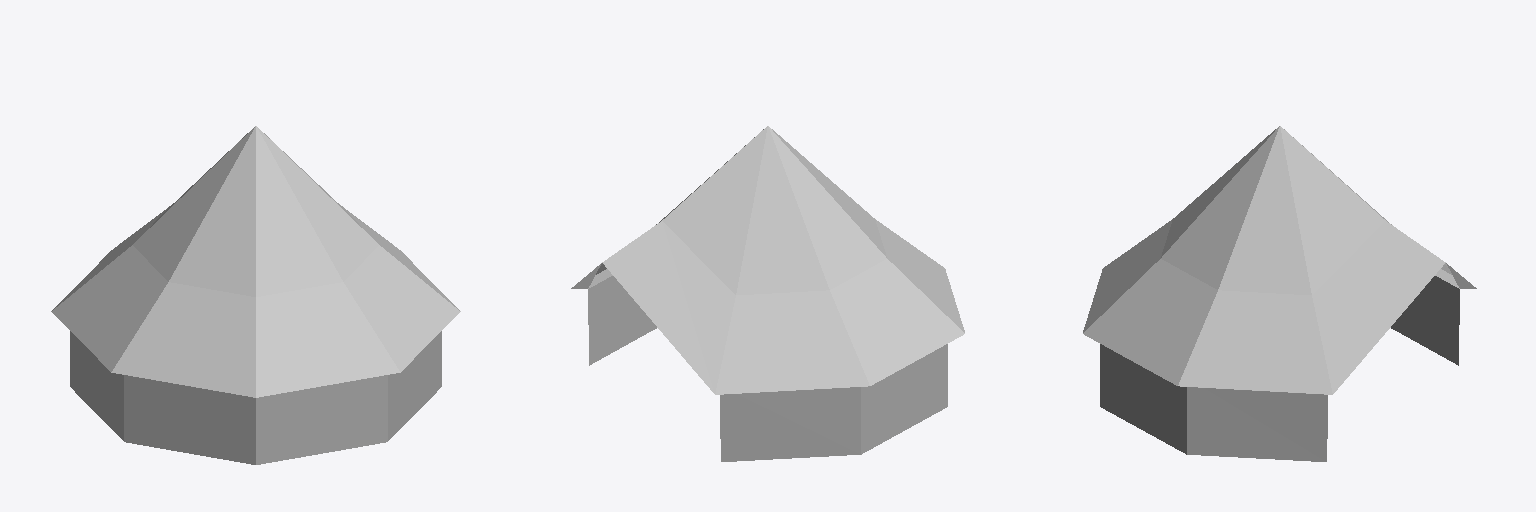
File: yurt.obj
3 views of the same model, side by side, from view 1: azimuth 30°, elevation 25°; view 2: azimuth 150°, elevation 25°; view 3: azimuth 270°, elevation 25° (orthographic).
Visible parts, largest first — view 1: Yurt; view 2: Yurt; view 3: Yurt.
Part boxes in pixels (bbox=[...]): Yurt: bbox=[51, 126, 460, 464]; Yurt: bbox=[571, 126, 964, 461]; Yurt: bbox=[1083, 126, 1476, 461].
Size of the model in its own units: 97.92 by 71.39 by 97.92.